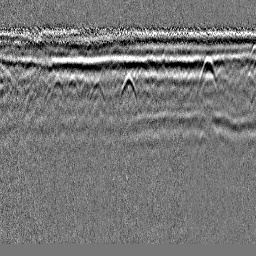cavity: (120, 72, 137, 102)
